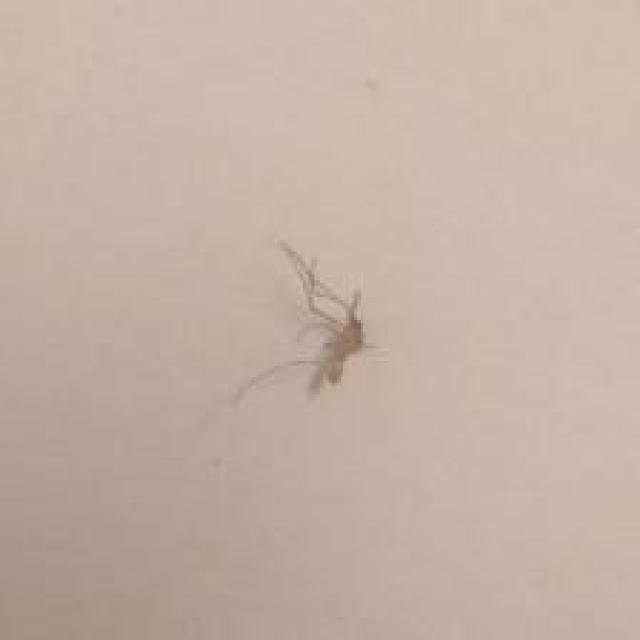Culex: (230, 237, 387, 412)
